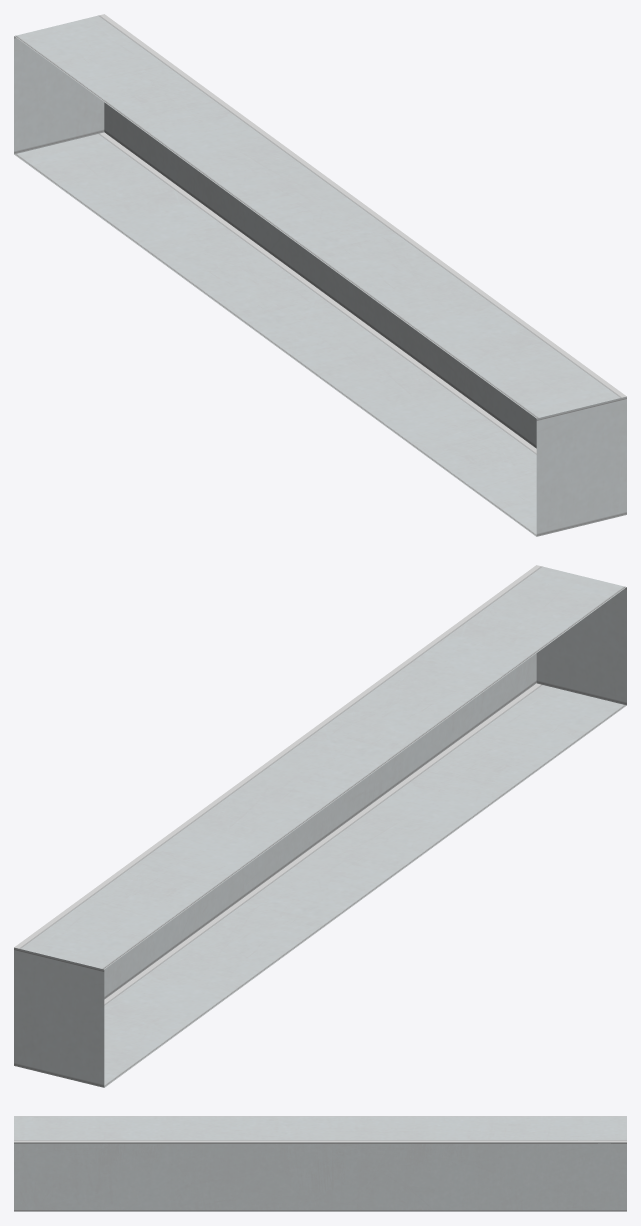
File: Bld_Ledge_01.fbx
3 views of the same model, one above another, from view 1: azimuth 30°, elevation 25°; view 2: azimuth 150°, elevation 25°; view 3: azimuth 270°, elevation 25° (orthographic). The views are drawn at different scales.
Visible parts, largest first — view 1: Bld_Ledge_01; view 2: Bld_Ledge_01; view 3: Bld_Ledge_01.
Part boxes in pixels (<box>): Bld_Ledge_01: <box>14,14,626,536</box>; Bld_Ledge_01: <box>14,565,626,1087</box>; Bld_Ledge_01: <box>14,1116,626,1211</box>.
Bounding box in the file's own units: 0.4 × 0.5 × 4.
1 material, 1 textured.
